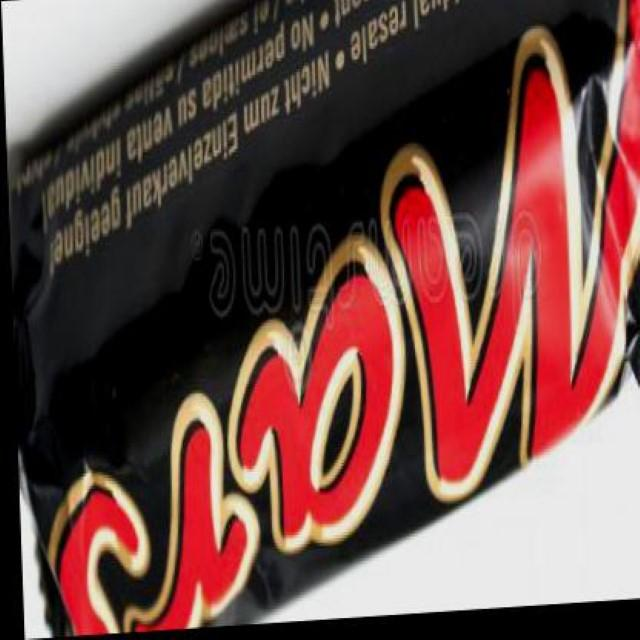mars_chocolate: (33, 67, 602, 613)
